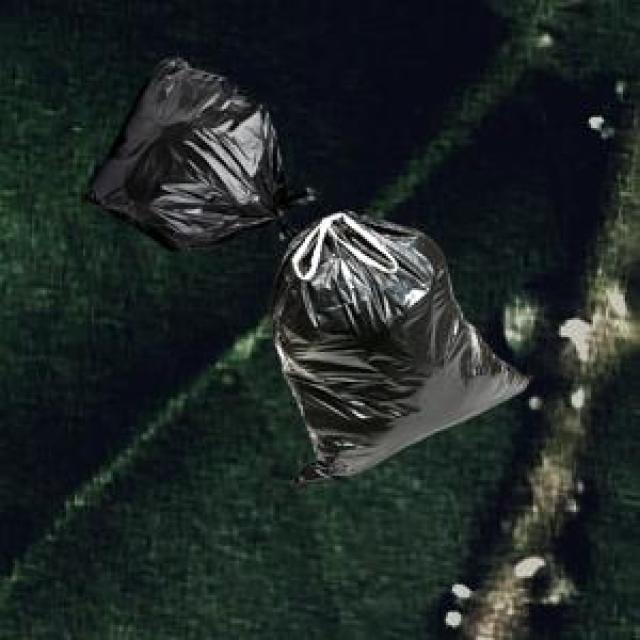miscellaneous trash: (267, 205, 527, 482), (81, 53, 314, 250)
